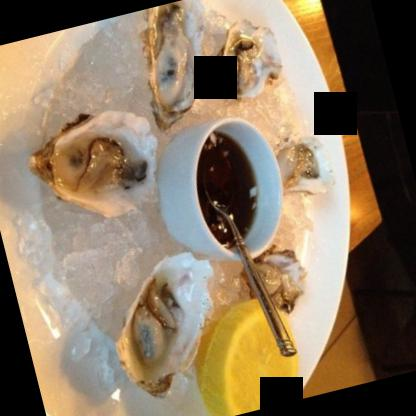lemon: (179, 294, 310, 415)
oyster: (98, 242, 239, 398), (23, 100, 174, 236), (125, 0, 233, 133), (206, 11, 293, 106), (270, 131, 337, 204)
